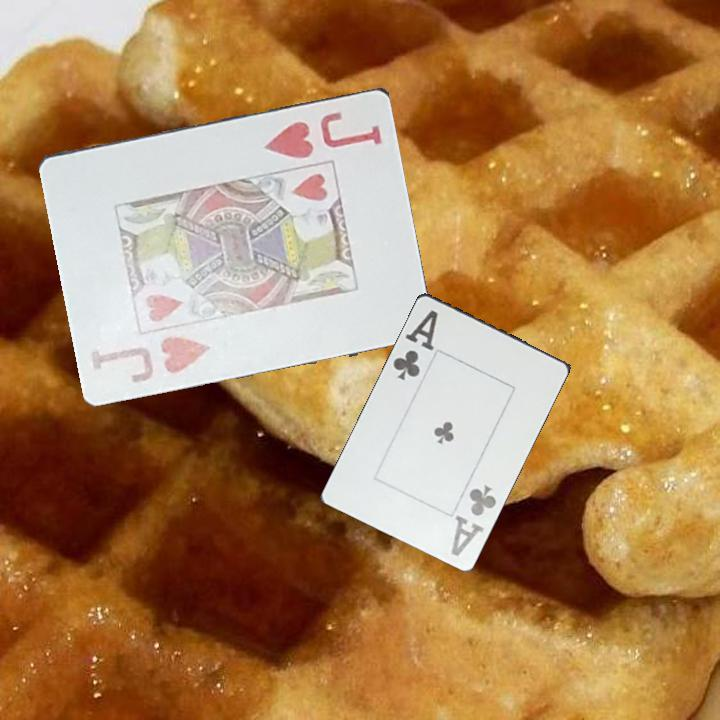Ac: (387, 306, 441, 383), (447, 480, 499, 559)
Jh: (87, 332, 214, 385), (261, 108, 385, 161)
